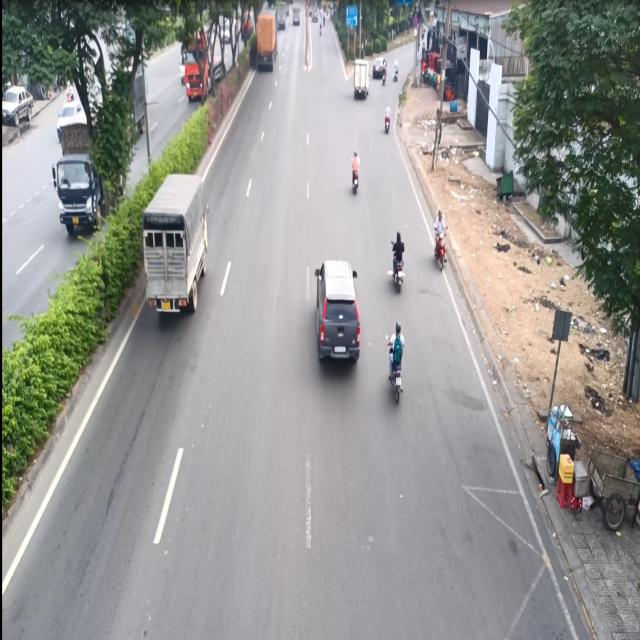car: (311, 254, 367, 377)
motor: (385, 322, 409, 409), (388, 232, 410, 302), (428, 207, 447, 278), (348, 149, 364, 207)
truck: (138, 167, 215, 321), (351, 52, 370, 96)
